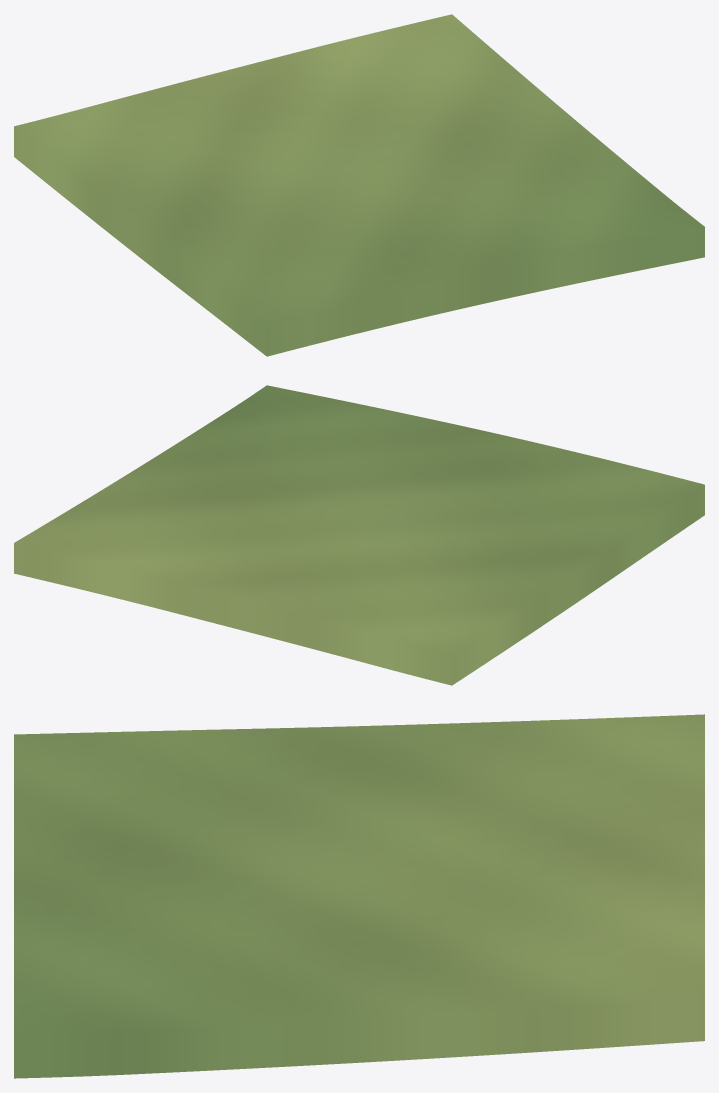
3 views of the same model, one above another, from view 1: azimuth 30°, elevation 25°; view 2: azimuth 150°, elevation 25°; view 3: azimuth 270°, elevation 25° (orthographic). The views are drawn at different scales.
Visible parts, largest first — view 1: terrain; view 2: terrain; view 3: terrain.
Boxes of the visible parts, box(x1,y1,x2,y2) form: terrain: box(14, 14, 704, 356); terrain: box(14, 385, 704, 685); terrain: box(14, 714, 704, 1078).
Size of the model in its own units: 30 by 3.82 by 30.
